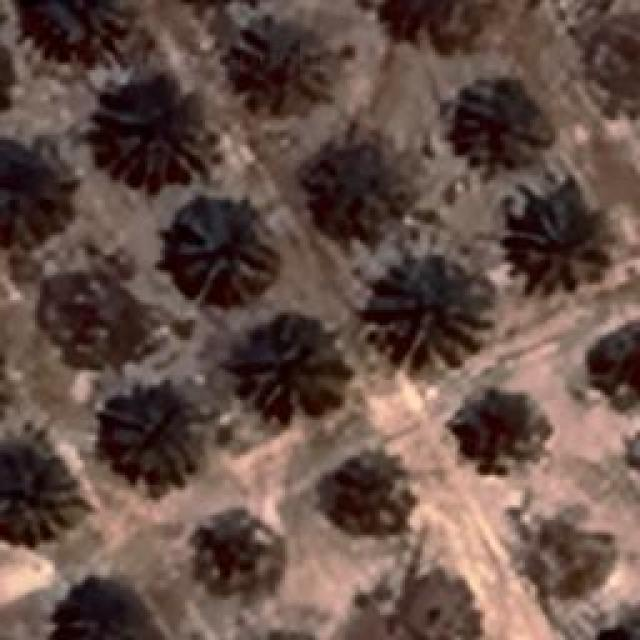PalmTree: (48, 65, 616, 362), (362, 258, 490, 372), (100, 88, 218, 182), (165, 200, 273, 302), (230, 15, 342, 110), (245, 314, 345, 418), (310, 137, 412, 230), (451, 74, 541, 168), (512, 202, 606, 290), (321, 450, 424, 530), (102, 398, 200, 480), (0, 426, 72, 536), (19, 0, 132, 68), (0, 149, 68, 249), (462, 392, 546, 458), (48, 580, 136, 640), (200, 518, 262, 582), (587, 609, 640, 640), (0, 28, 11, 123)
